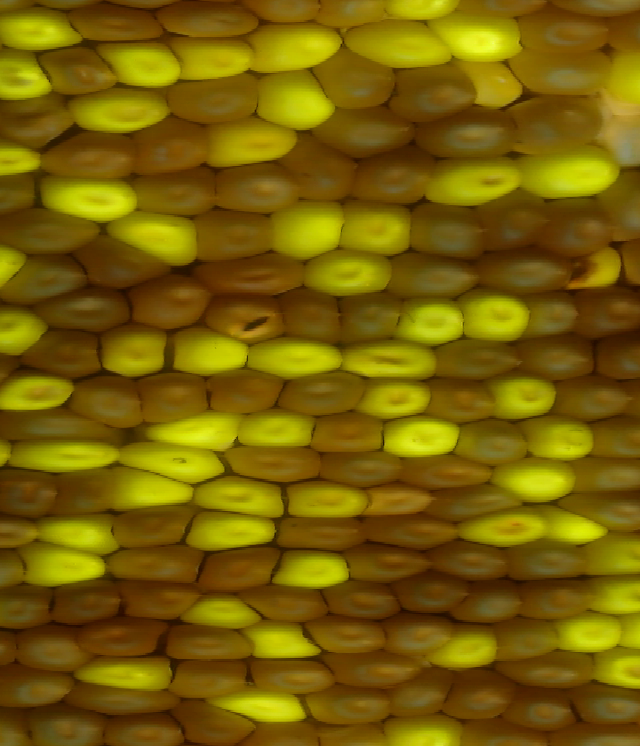fluorescent: (341, 16, 456, 70), (514, 148, 625, 197), (257, 17, 346, 76), (202, 111, 296, 166), (256, 69, 337, 130), (73, 651, 178, 698), (73, 82, 170, 132), (12, 539, 115, 586), (168, 323, 251, 381), (425, 153, 523, 202), (99, 324, 184, 380), (301, 245, 394, 296), (5, 437, 120, 477), (441, 8, 526, 62), (28, 509, 127, 555), (114, 211, 196, 264), (343, 338, 439, 383), (283, 477, 375, 523), (191, 475, 281, 522), (248, 334, 344, 378), (495, 459, 581, 508), (120, 443, 225, 483), (44, 175, 137, 220), (462, 288, 535, 345), (339, 199, 412, 255), (100, 41, 180, 91), (106, 461, 191, 508), (262, 202, 342, 251), (172, 34, 256, 80), (207, 692, 316, 727), (0, 3, 80, 50), (481, 369, 556, 419), (185, 511, 278, 551), (153, 409, 242, 450), (396, 296, 463, 349), (383, 416, 459, 462), (0, 367, 75, 413), (179, 590, 260, 632), (522, 413, 594, 460), (243, 407, 321, 450), (254, 616, 325, 662), (360, 378, 436, 420), (273, 549, 353, 588), (472, 509, 549, 549), (538, 504, 605, 546), (0, 45, 52, 99), (558, 613, 622, 656), (0, 307, 51, 355), (383, 717, 466, 746), (437, 632, 505, 667), (590, 648, 640, 692), (590, 538, 640, 580), (604, 49, 640, 104), (0, 134, 47, 176), (593, 571, 640, 611)
nonfluorescent: (512, 91, 602, 157), (314, 102, 421, 153), (346, 141, 428, 206), (214, 160, 312, 212), (415, 107, 515, 157), (283, 129, 356, 197), (79, 234, 174, 286), (393, 61, 480, 117), (204, 291, 294, 345), (165, 77, 268, 124), (157, 617, 253, 667), (270, 369, 370, 416), (0, 207, 102, 253), (520, 7, 610, 59), (37, 287, 136, 334), (126, 274, 210, 329), (101, 544, 210, 586), (164, 697, 257, 746), (385, 253, 488, 297), (320, 51, 395, 111), (194, 253, 306, 292), (483, 249, 572, 298), (409, 202, 488, 257), (135, 167, 220, 218), (193, 208, 277, 259), (1, 249, 86, 299), (328, 644, 417, 691), (72, 375, 144, 433), (205, 365, 283, 418), (518, 50, 614, 93), (36, 40, 115, 92), (44, 132, 137, 176), (132, 118, 207, 172), (426, 340, 521, 382), (542, 193, 606, 255), (0, 92, 75, 144), (0, 408, 118, 441), (305, 681, 393, 725), (78, 613, 167, 656), (518, 333, 596, 382), (172, 653, 254, 699), (281, 283, 346, 341), (364, 508, 463, 546), (74, 677, 178, 713), (112, 578, 195, 623), (226, 444, 321, 483), (16, 623, 93, 671), (236, 585, 333, 623), (315, 446, 404, 487), (278, 513, 367, 554), (507, 649, 600, 688), (309, 408, 393, 451), (488, 193, 549, 251), (338, 285, 401, 341), (67, 4, 164, 40), (115, 506, 196, 549), (252, 654, 333, 697), (448, 664, 512, 718), (554, 376, 633, 419), (396, 451, 493, 486), (139, 372, 209, 420), (198, 545, 279, 586), (568, 449, 640, 495), (505, 682, 574, 730), (332, 577, 409, 620), (426, 378, 500, 422), (580, 285, 640, 339), (389, 575, 472, 614), (422, 485, 523, 517), (457, 419, 527, 465), (0, 467, 63, 518), (0, 578, 59, 632), (349, 539, 430, 578), (516, 577, 593, 618), (0, 667, 74, 709), (54, 581, 123, 625), (567, 492, 640, 533), (395, 666, 448, 722), (37, 332, 101, 378), (437, 540, 510, 580), (515, 540, 585, 581), (165, 1, 257, 32), (31, 706, 101, 746), (601, 170, 640, 240), (463, 581, 525, 624), (530, 290, 584, 339), (56, 470, 112, 516), (573, 685, 640, 723), (385, 613, 449, 650), (499, 619, 556, 659), (314, 618, 383, 651), (588, 419, 640, 462), (595, 334, 640, 382), (609, 228, 640, 286), (0, 516, 44, 551), (0, 171, 36, 212), (260, 2, 326, 24), (0, 550, 32, 591)
